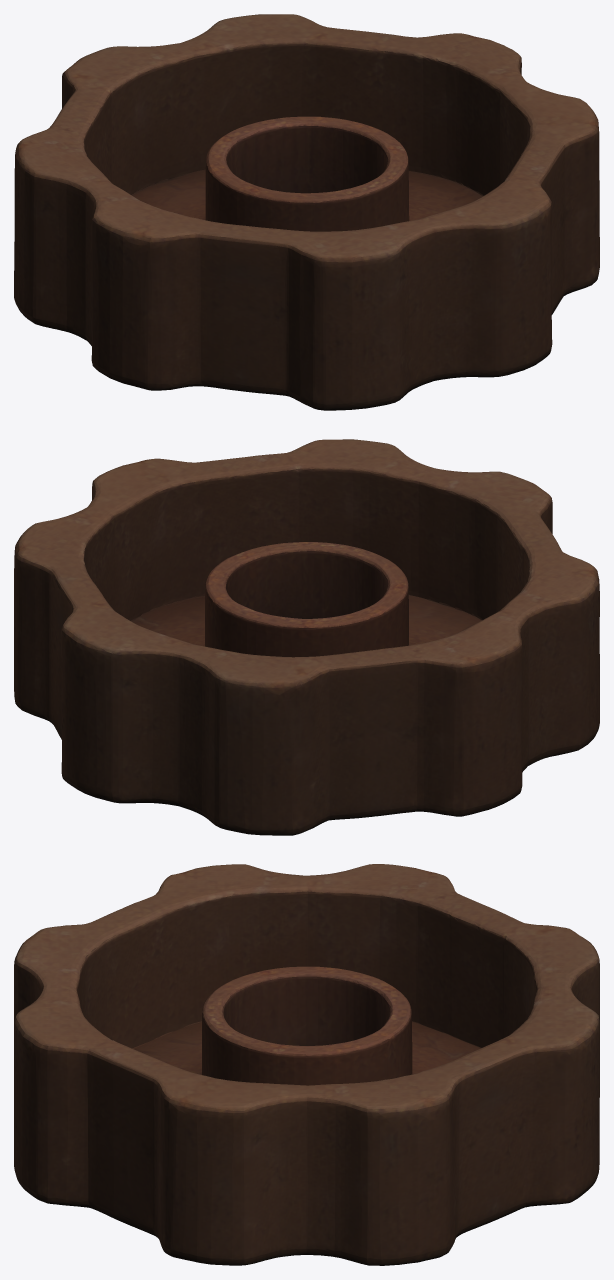
The picture shows the model from 3 angles, top to bottom: view 1: azimuth 30°, elevation 25°; view 2: azimuth 150°, elevation 25°; view 3: azimuth 270°, elevation 25°; orthographic projection. The views are drawn at different scales.
Parts seen in each view (by area): view 1: world; view 2: world; view 3: world.
Boxes of the visible parts, x1=… form: world: x1=14, y1=14, x2=599, y2=410; world: x1=14, y1=439, x2=599, y2=835; world: x1=14, y1=864, x2=599, y2=1265.
Size of the model in its own units: 1 by 0.3038 by 1.
1 material, 1 textured.
